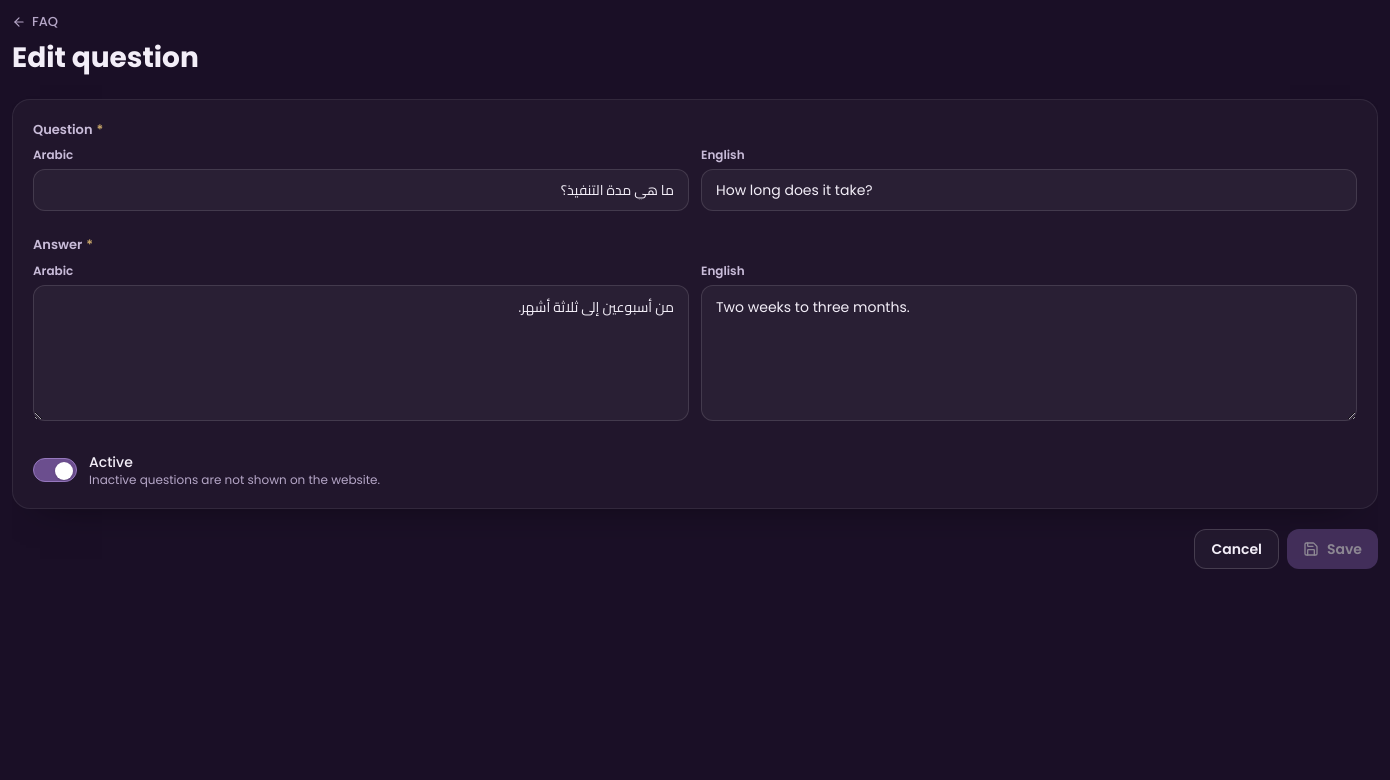
Test: FaqEdit › loads the record into the form and keeps Save disabled until something changes
This screenshot has width=1390, height=780.
Expected: the field named "Question (Arabic)" holds "ما هي مدة التنفيذ؟", [33,169,689,211]
Expected: the heading "Edit question" is shown, [12,40,199,75]
Type "!" into the field named "Question (English)" at (1029, 190), box [701,169,1357,211]
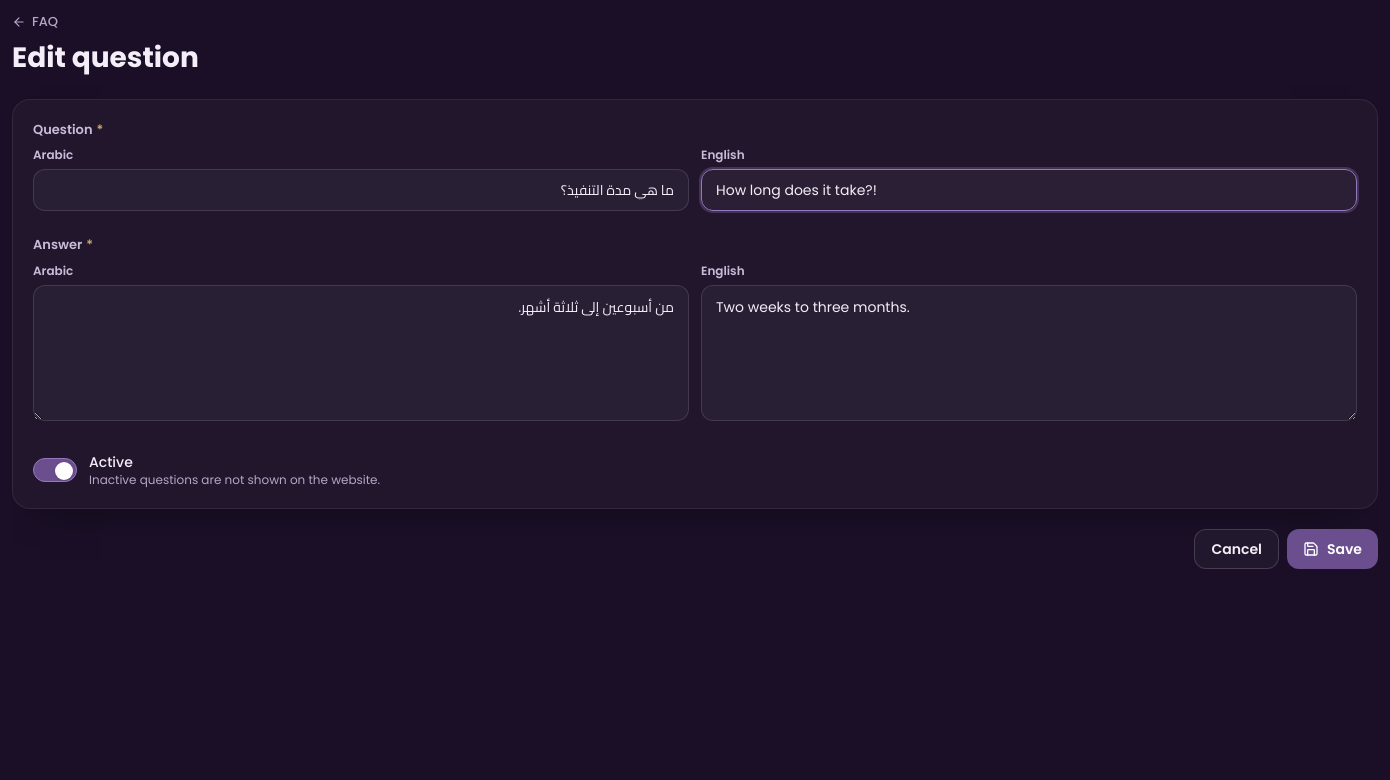
Now the button "Save" is enabled, box [1287,528,1378,568]
